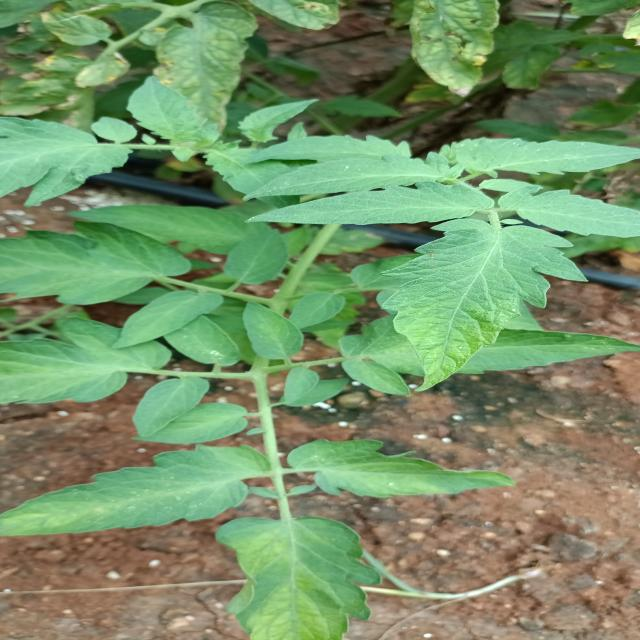Healthy Leaf: (388, 216, 552, 392), (0, 444, 271, 540), (210, 508, 389, 640), (277, 437, 534, 508), (228, 181, 491, 231), (94, 286, 230, 348), (435, 138, 640, 179), (501, 188, 640, 237)
